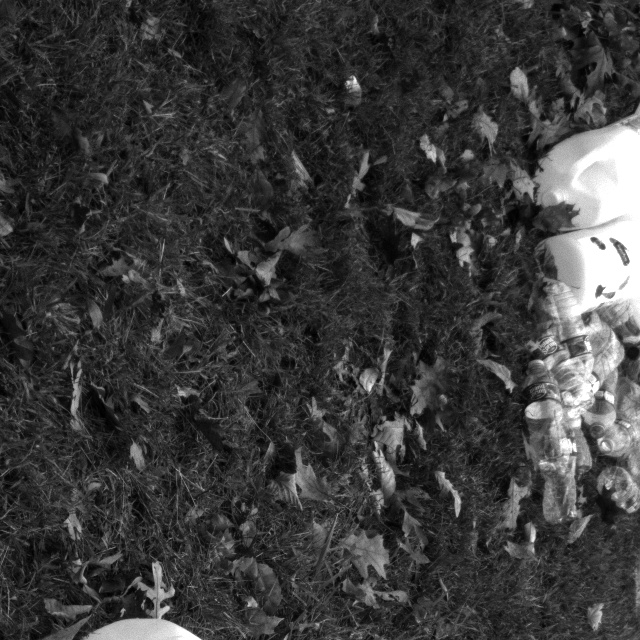bottle: (521, 353, 573, 472), (539, 277, 599, 380), (540, 426, 582, 524), (583, 348, 627, 438)
can: (530, 111, 640, 232), (535, 212, 640, 322)
